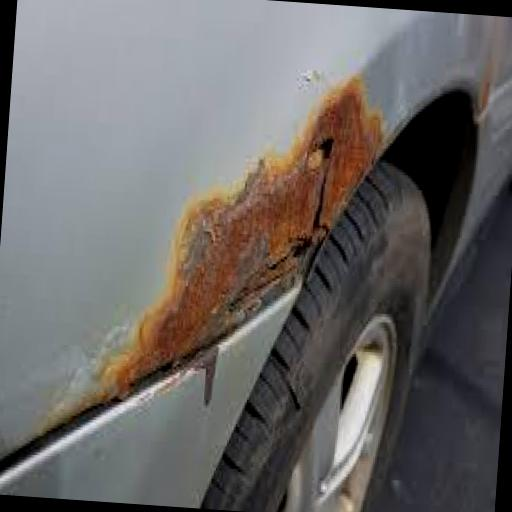segmentation: (27, 61, 424, 438)
